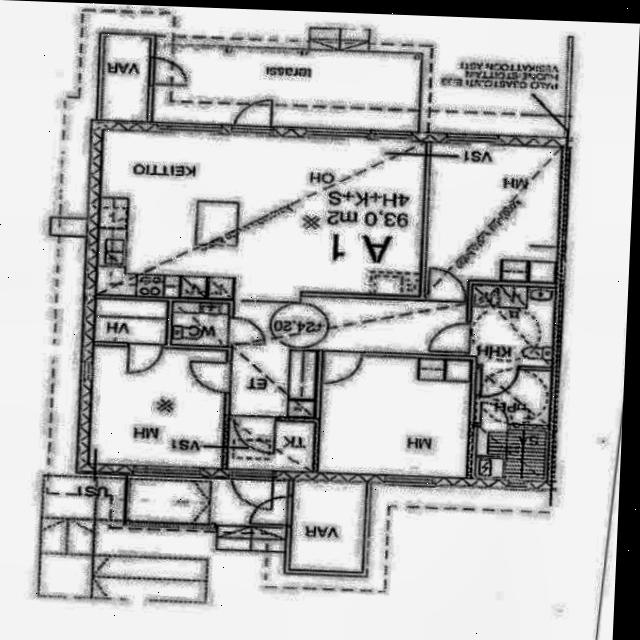room: (425, 143, 561, 305), (318, 354, 473, 479), (88, 346, 228, 469), (469, 283, 556, 369), (227, 418, 316, 473), (94, 299, 169, 345), (171, 302, 229, 346)
